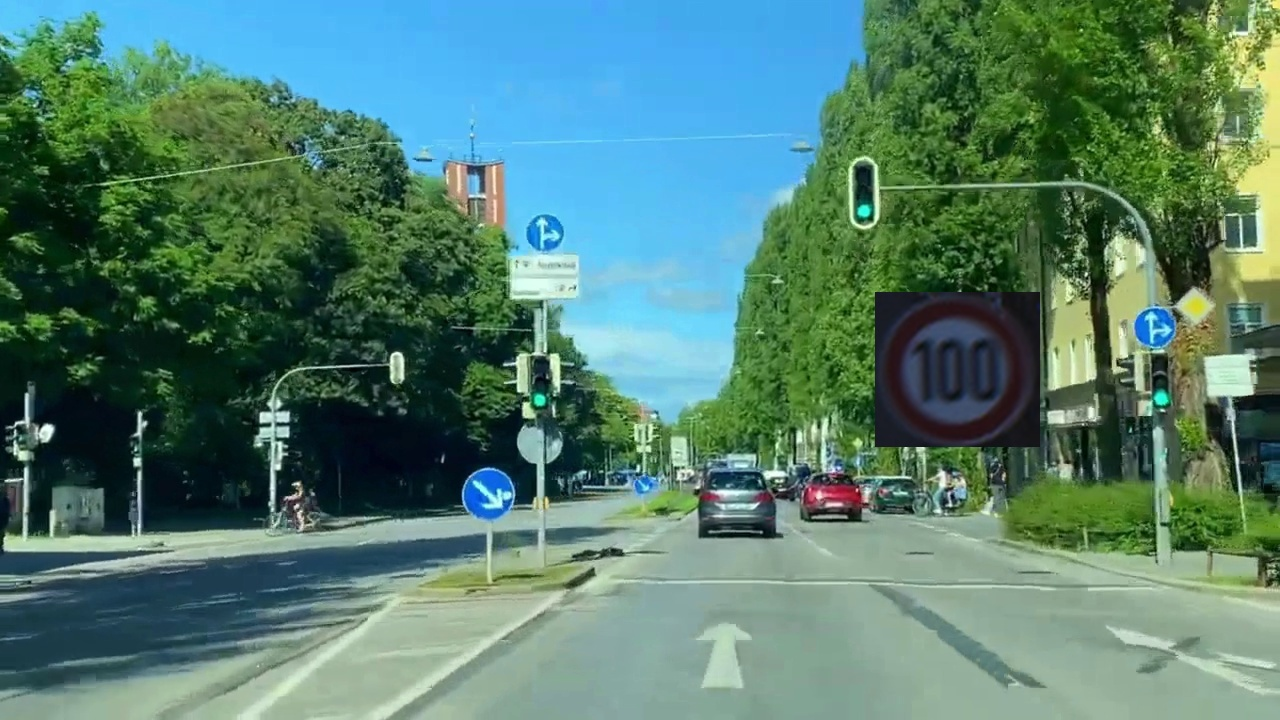Speed 100: (875, 292, 1040, 447)
